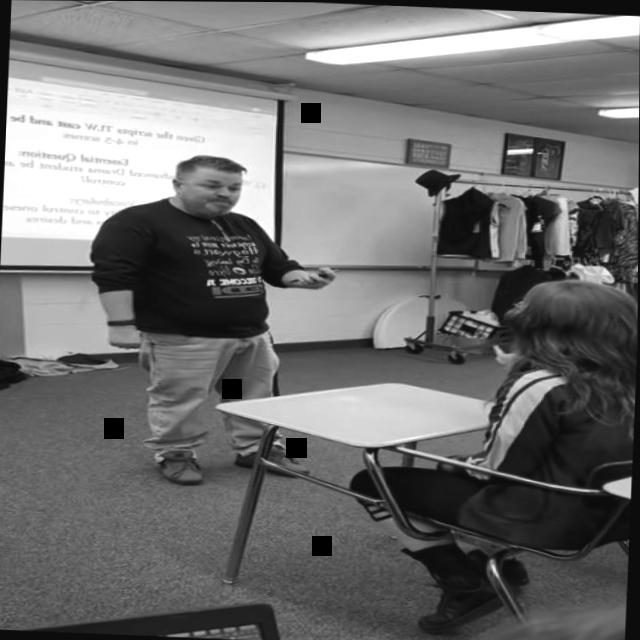NO-Mask: (172, 158, 249, 218)
